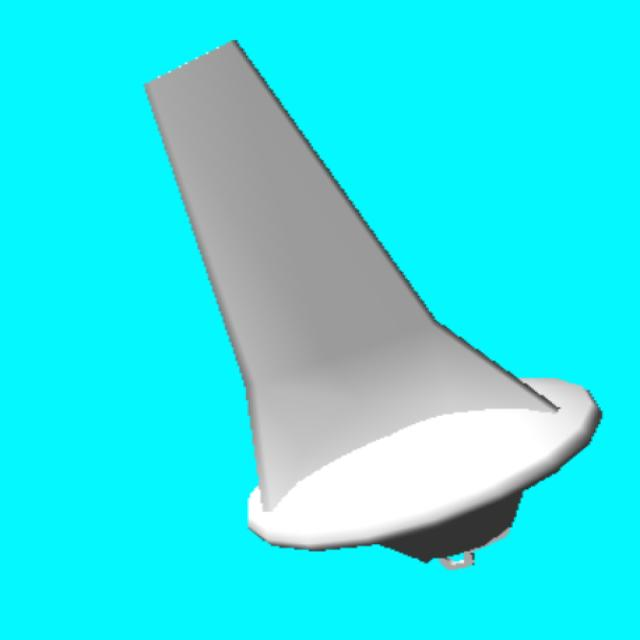WhiteBuoy: (147, 42, 601, 561)
